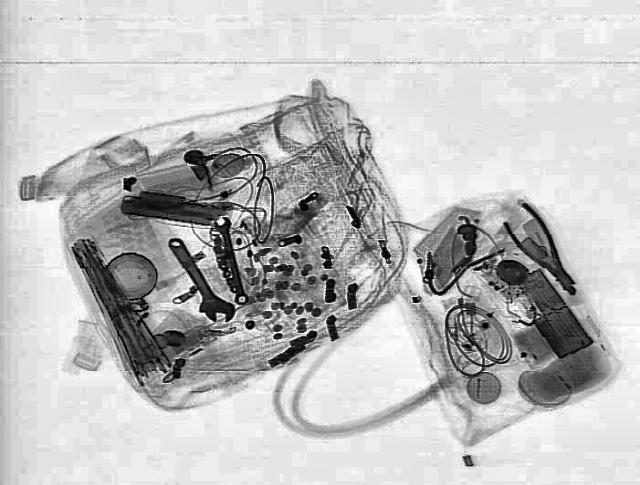Pliers: (490, 201, 598, 298)
Wrench: (158, 233, 240, 327), (210, 215, 250, 305)
